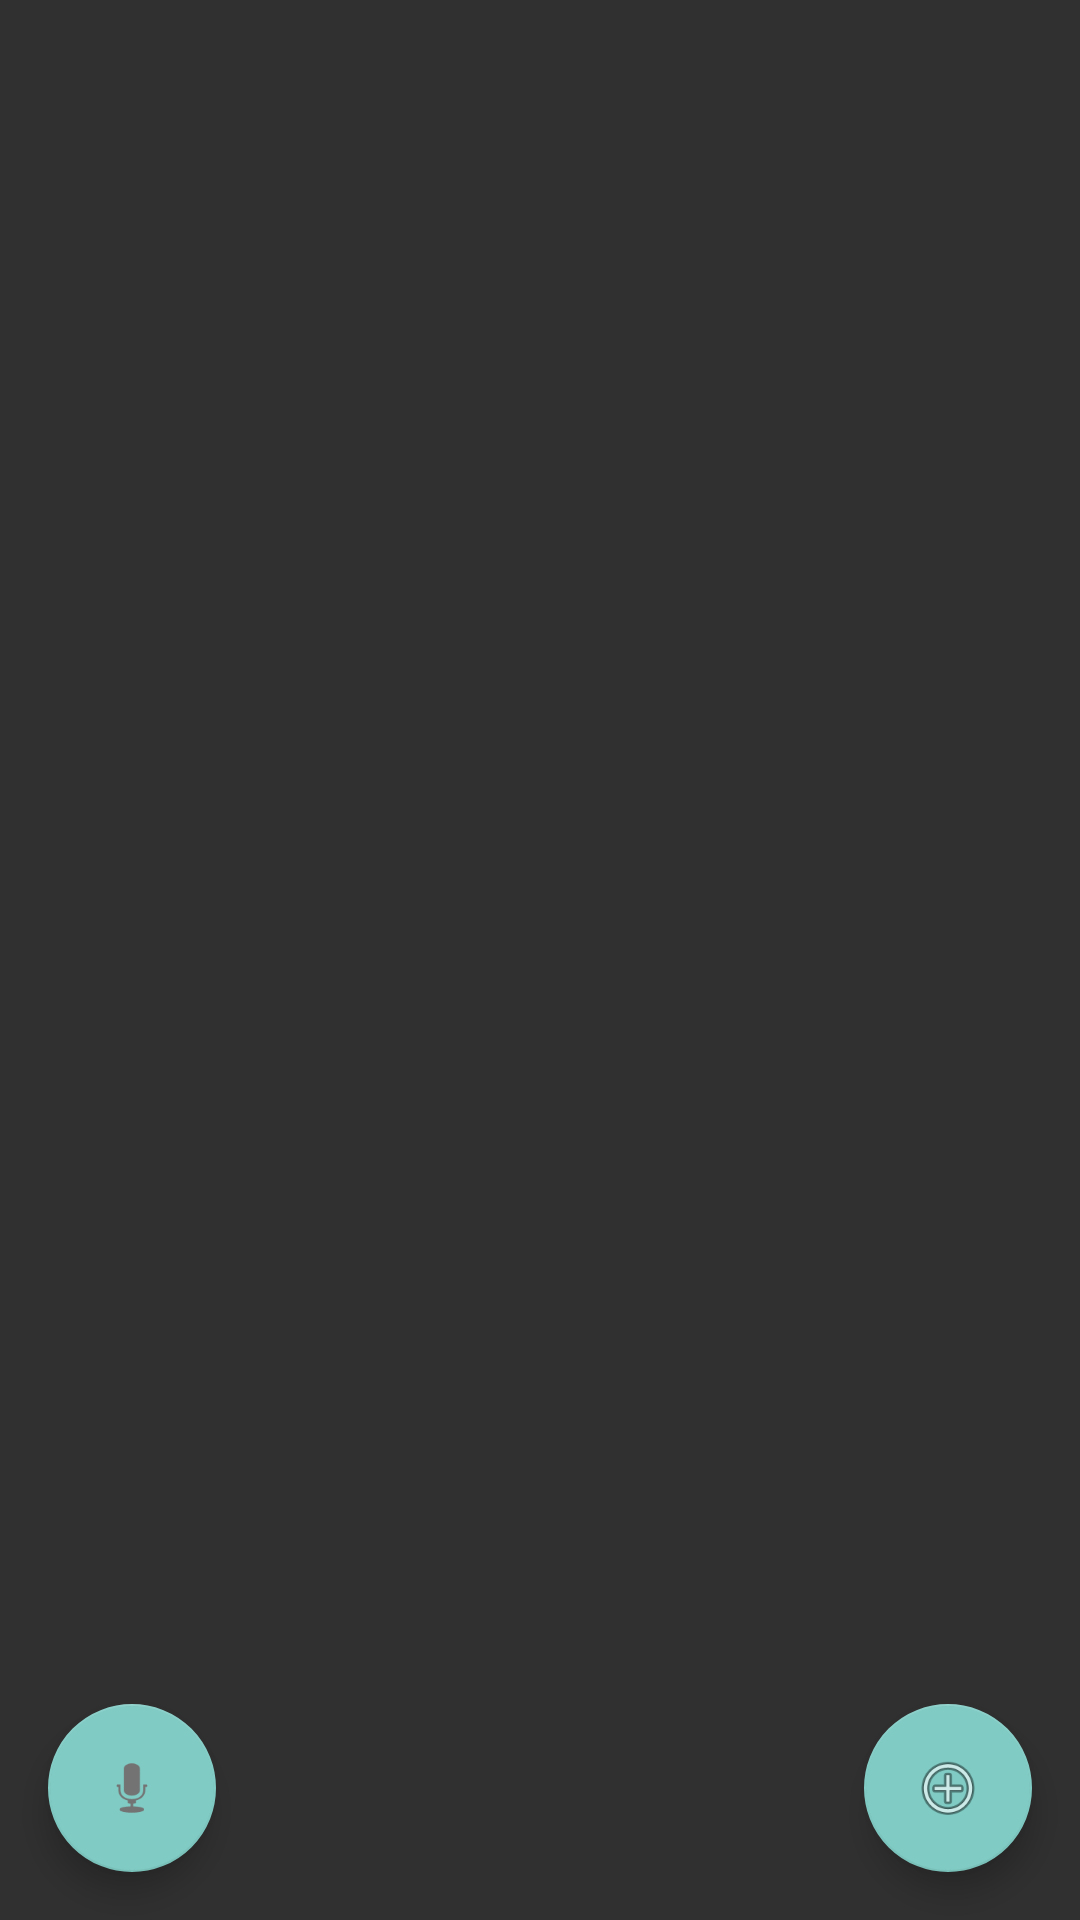

Icon click points for this 1080px x 1920px phone screenshot, format point (x, y):
add: point (948, 1788)
speak now: point (132, 1788)
